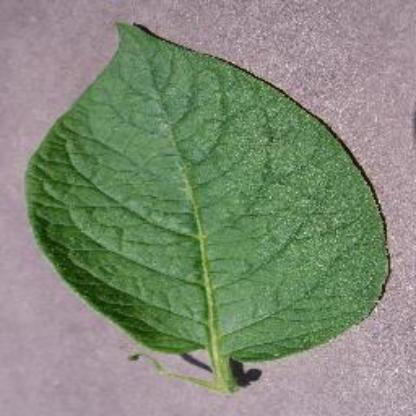Healthy-plant: (21, 22, 394, 400)
